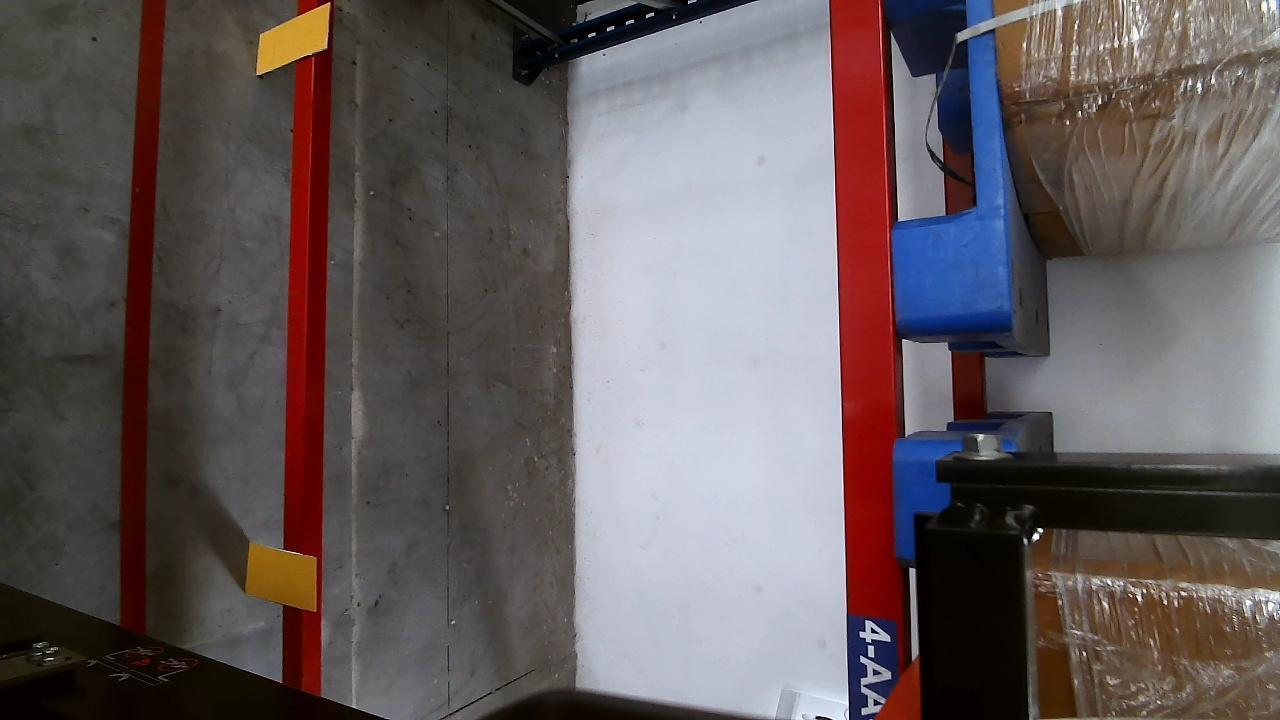red_line: (121, 1, 167, 632)
